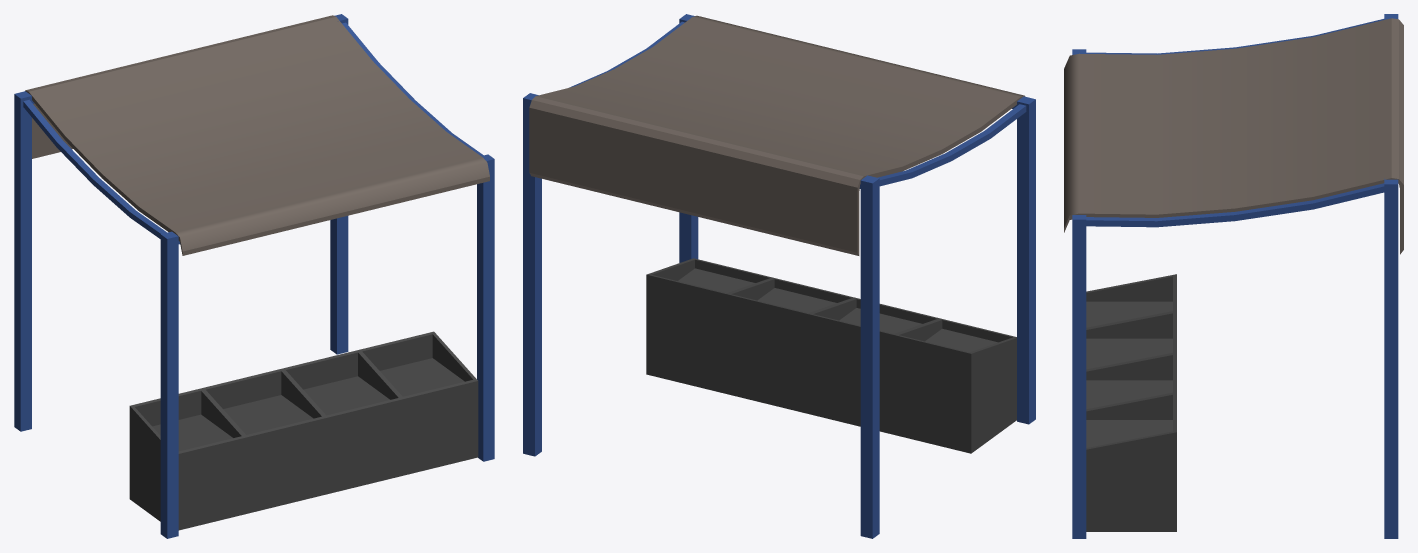
Rendered from CoveredStall_01.fbx.
3 renders of one model, left to right at view 1: azimuth 30°, elevation 25°; view 2: azimuth 150°, elevation 25°; view 3: azimuth 270°, elevation 25°, orthographic. The views are drawn at different scales.
Parts seen in each view (by area): view 1: CoveredStall_01; view 2: CoveredStall_01; view 3: CoveredStall_01.
Part boxes in pixels (bbox=[...]): CoveredStall_01: bbox=[14, 14, 494, 538]; CoveredStall_01: bbox=[523, 14, 1035, 538]; CoveredStall_01: bbox=[1064, 14, 1403, 538].
Bounding box in the file's own units: 598 × 584 × 504.
